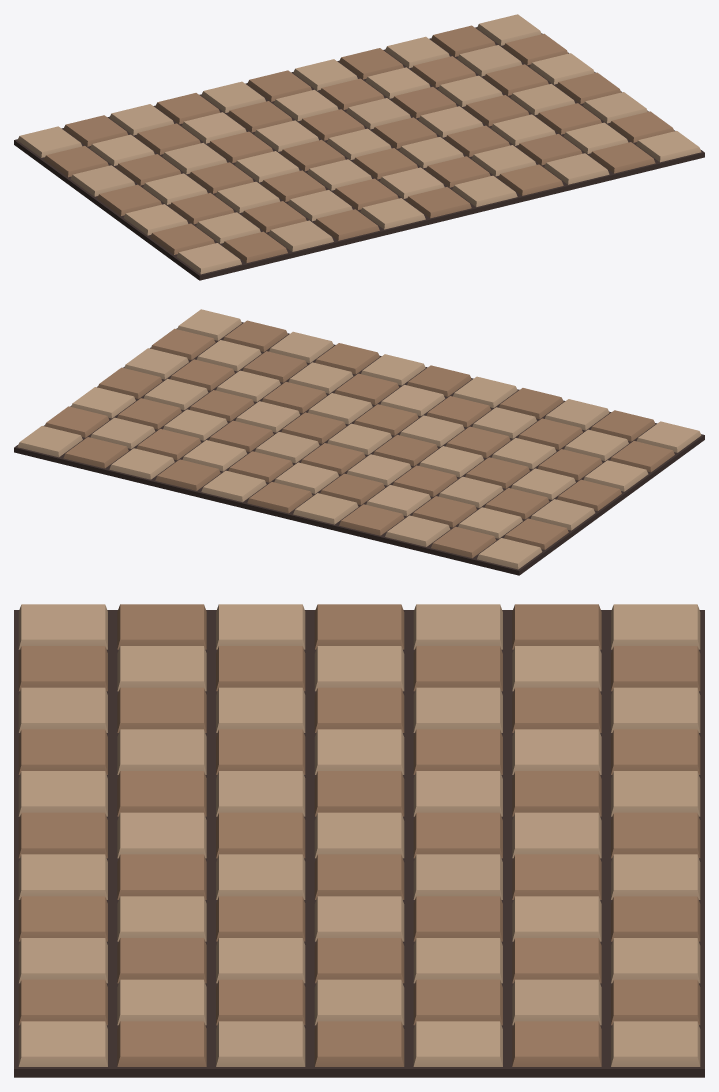
Rendered from arena.glb.
3 views of the same model, one above another, from view 1: azimuth 30°, elevation 25°; view 2: azimuth 150°, elevation 25°; view 3: azimuth 270°, elevation 25° (orthographic). The views are drawn at different scales.
Parts seen in each view (by area): view 1: tilesA, tilesB, grout; view 2: tilesA, tilesB, grout; view 3: tilesA, tilesB, grout.
Part boxes in pixels (<box>): tilesA: <box>17,14,701,274</box>; tilesB: <box>44,25,673,263</box>; grout: <box>14,27,704,280</box>; tilesA: <box>17,309,701,569</box>; tilesB: <box>45,320,674,558</box>; grout: <box>14,322,704,575</box>; tilesA: <box>18,604,700,1066</box>; tilesB: <box>18,604,700,1066</box>; grout: <box>14,610,704,1077</box>.
Size of the model in its own units: 11 by 0.2 by 7.
